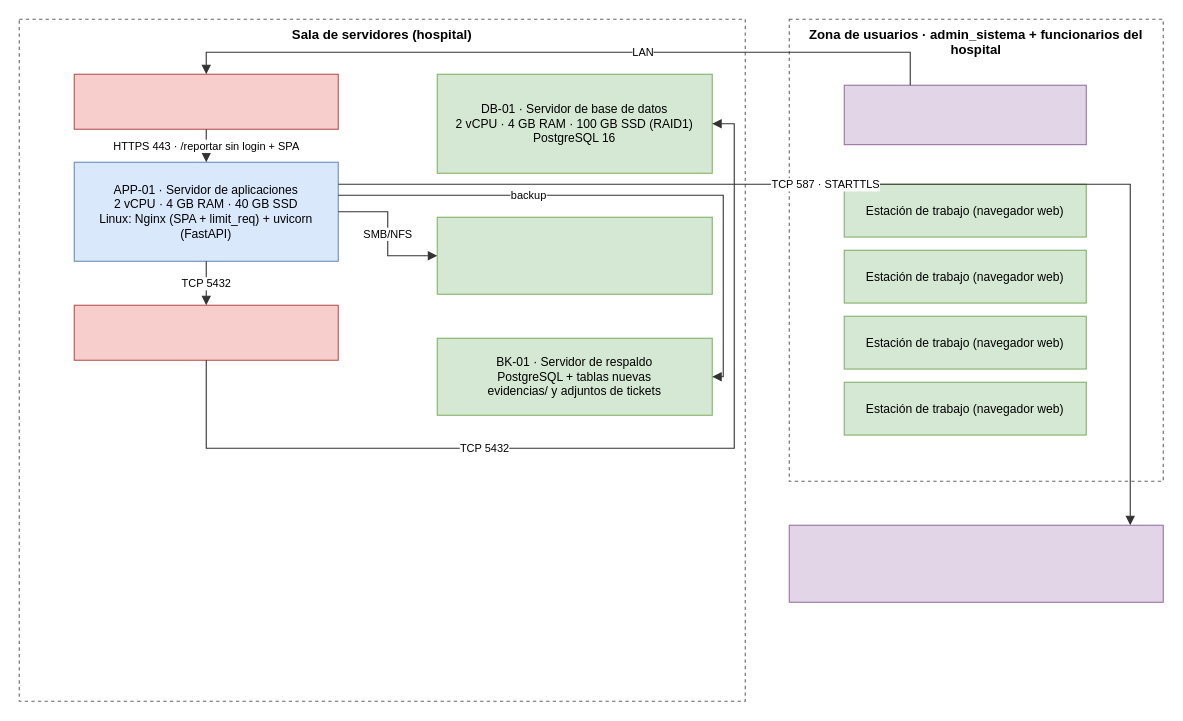
The diagram is 1183 pixels wide and 721 high, and some of its shapes have lost their labels. Each missing label, with the centre of its shape:
FW-01 · Firewall perimetral LAN→APP TCP 443; salida SMTP-01 TCP 587: the point at 205,101
FW-02 · Firewall interno (BD): the point at 205,332
NAS-01 · Almacenamiento 100+ GB · evidencias/ evidencias/tickets/ restringida: the point at 574,255
SMTP-01 · Relay de correo institucional existente: the point at 975,563
SW-01 · Switch de acceso: the point at 964,114
